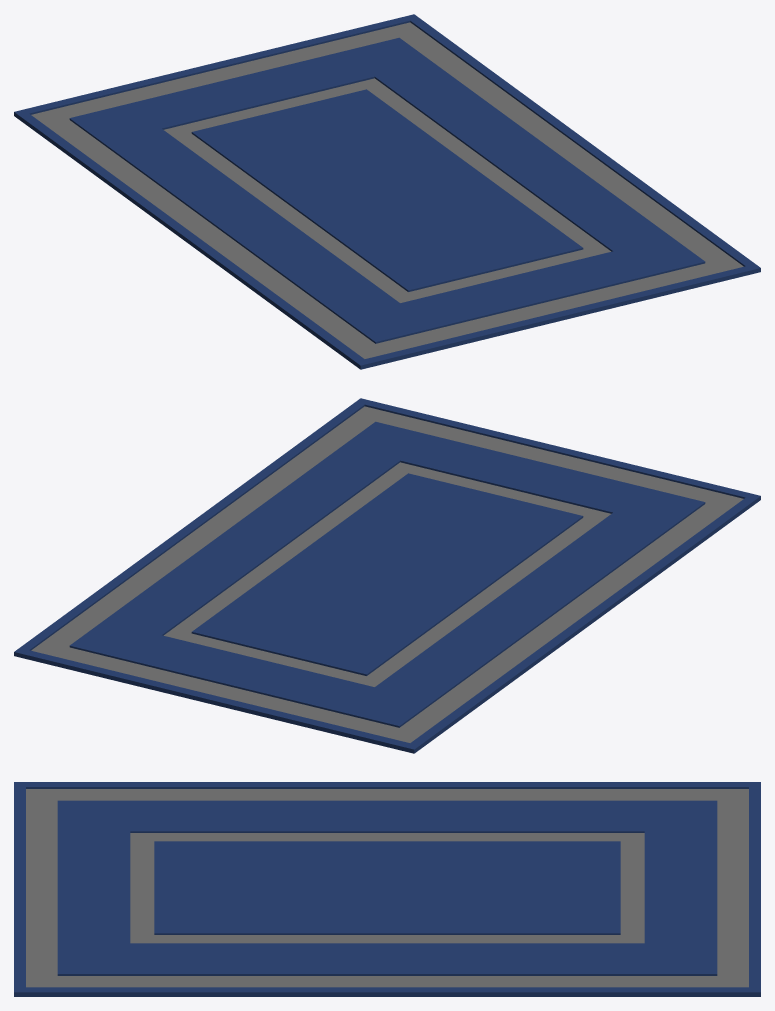
File: Itr_Carpet2_05.FBX
3 views of the same model, one above another, from view 1: azimuth 30°, elevation 25°; view 2: azimuth 150°, elevation 25°; view 3: azimuth 270°, elevation 25° (orthographic). The views are drawn at different scales.
Parts seen in each view (by area): view 1: Itr_Carpet2_05; view 2: Itr_Carpet2_05; view 3: Itr_Carpet2_05.
Boxes of the visible parts, x1,y1,x2,y2 form: Itr_Carpet2_05: (14, 14, 760, 369); Itr_Carpet2_05: (14, 398, 760, 753); Itr_Carpet2_05: (14, 782, 760, 996).
Size of the model in its own units: 105 by 1.05 by 158.
